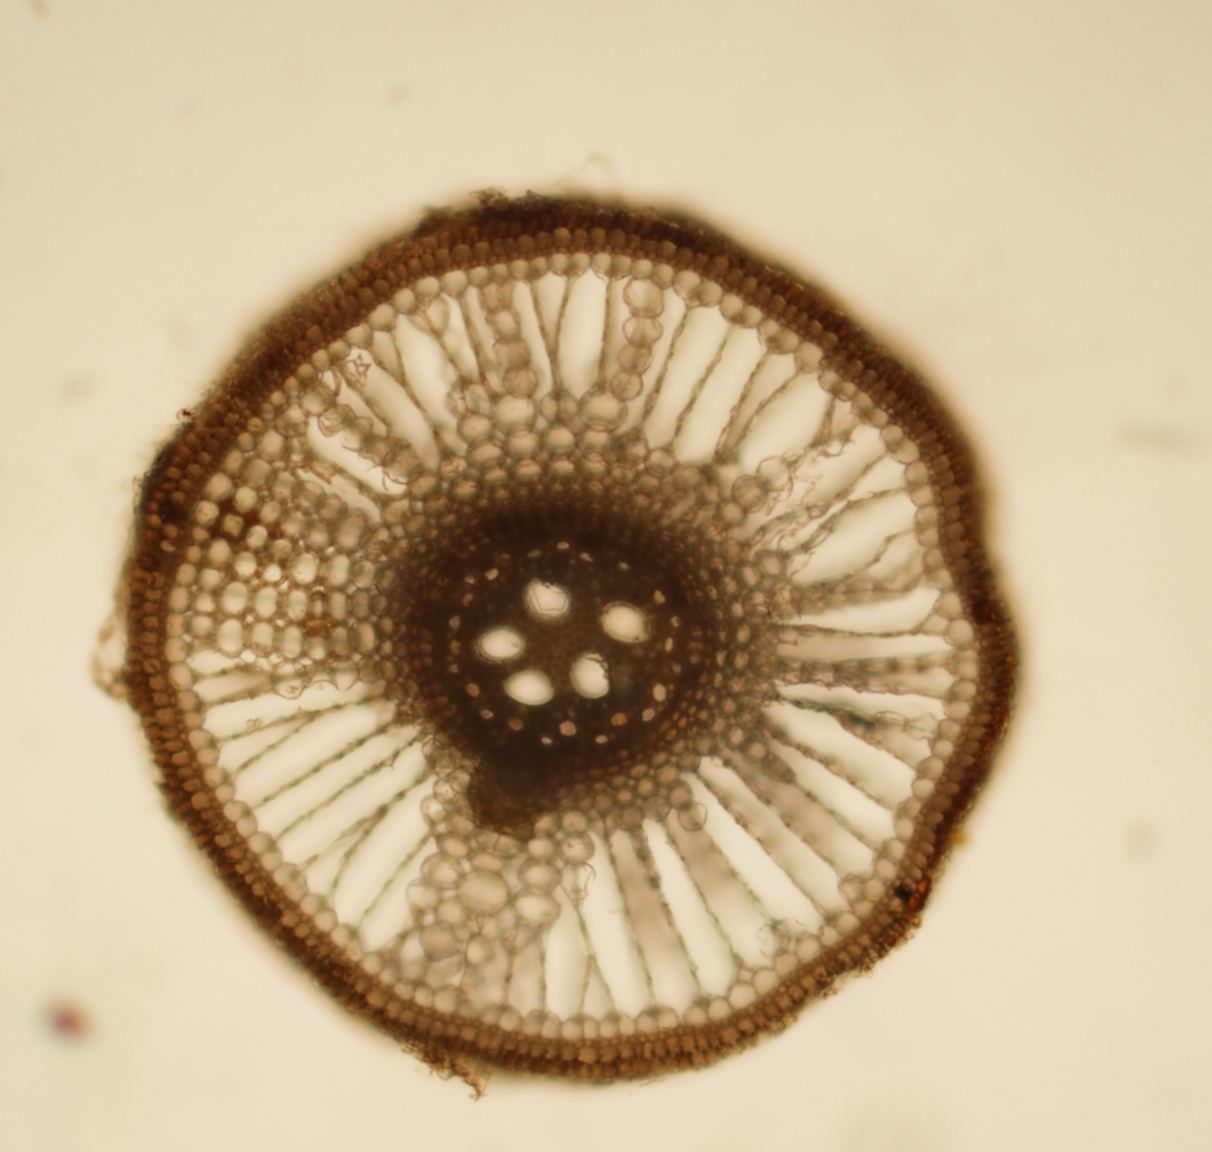lm: (600, 601, 650, 643), (569, 650, 609, 698), (503, 668, 554, 705), (528, 578, 568, 619), (477, 627, 524, 660)
